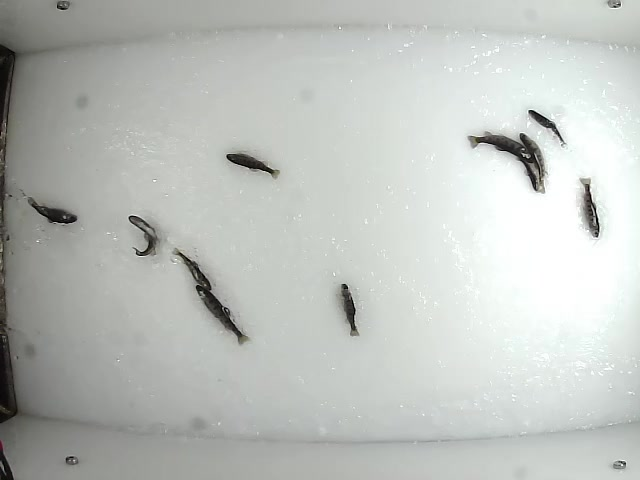fish: (467, 130, 543, 193), (193, 282, 249, 347), (171, 246, 215, 292), (526, 107, 571, 148), (519, 131, 547, 193), (225, 151, 283, 180), (24, 196, 80, 226), (123, 214, 159, 257), (336, 280, 360, 337), (579, 176, 601, 238)
